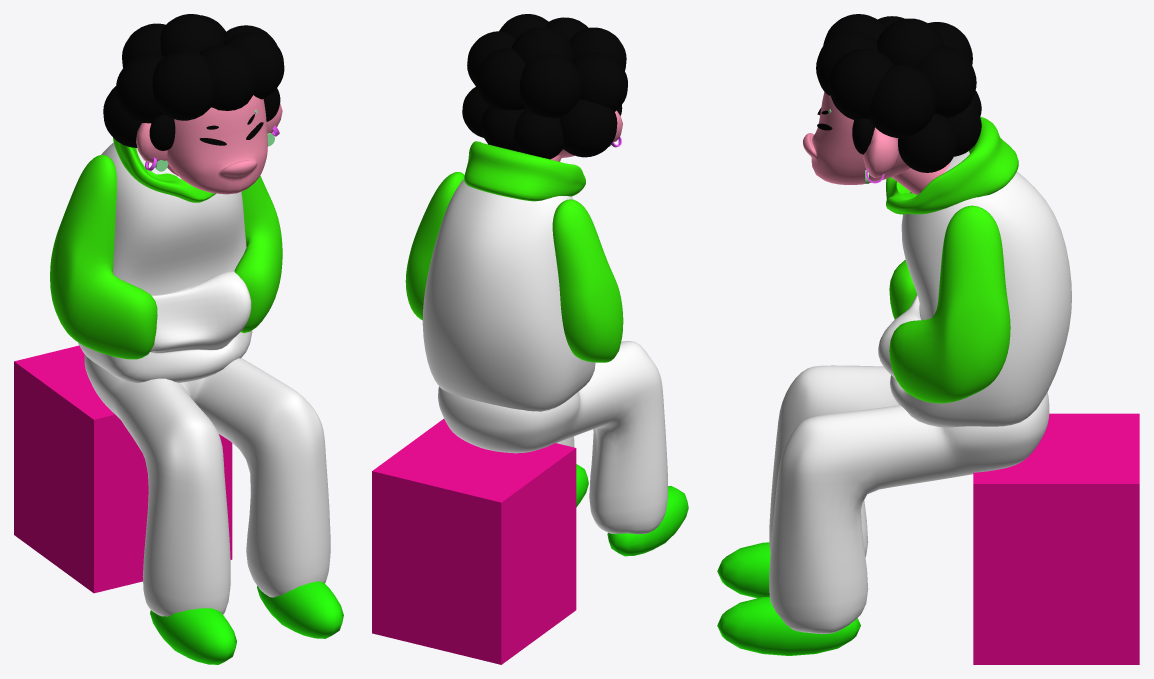
3 renders of one model, left to right at view 1: azimuth 30°, elevation 25°; view 2: azimuth 150°, elevation 25°; view 3: azimuth 270°, elevation 25°, orthographic. The views are drawn at different scales.
Visible parts, largest first — view 1: pCube10, pCube9, pCube7, pCube11, hair, pCube1, pCube13, pCube12, pCube8; view 2: pCube9, pCube7, pCube10, hair, pCube11, pCube8, pCube13; view 3: pCube9, pCube10, pCube7, hair, pCube11, pCube1, pCube8, pCube12, pCube13.
Part boxes in pixels (x1=…): pCube10: x1=84, y1=355, x2=330, y2=616; pCube9: x1=14, y1=345, x2=232, y2=593; pCube7: x1=78, y1=142, x2=252, y2=383; pCube11: x1=50, y1=155, x2=282, y2=359; hair: x1=103, y1=14, x2=284, y2=150; pCube1: x1=136, y1=95, x2=282, y2=194; pCube13: x1=150, y1=608, x2=236, y2=664; pCube12: x1=257, y1=581, x2=343, y2=638; pCube8: x1=113, y1=137, x2=215, y2=202; pCube9: x1=372, y1=419, x2=576, y2=664; pCube7: x1=422, y1=179, x2=595, y2=411; pCube10: x1=438, y1=341, x2=667, y2=534; hair: x1=462, y1=14, x2=627, y2=159; pCube11: x1=405, y1=172, x2=623, y2=362; pCube8: x1=464, y1=141, x2=585, y2=201; pCube13: x1=607, y1=486, x2=688, y2=556; pCube9: x1=973, y1=413, x2=1139, y2=664; pCube10: x1=769, y1=365, x2=1049, y2=633; pCube7: x1=878, y1=151, x2=1071, y2=427; hair: x1=816, y1=14, x2=981, y2=172; pCube11: x1=889, y1=205, x2=1010, y2=403; pCube1: x1=803, y1=92, x2=950, y2=194; pCube8: x1=886, y1=117, x2=1018, y2=214; pCube12: x1=717, y1=596, x2=860, y2=655; pCube13: x1=717, y1=542, x2=770, y2=598.
Bounding box in the file's own units: 0.4732 × 1.21 × 0.7618.
